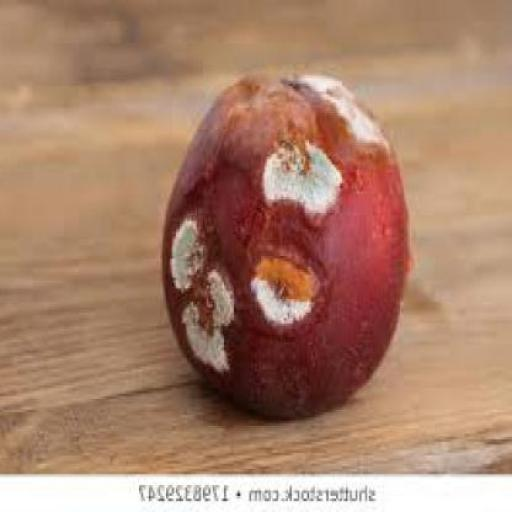biodegradable: (166, 70, 412, 417)
